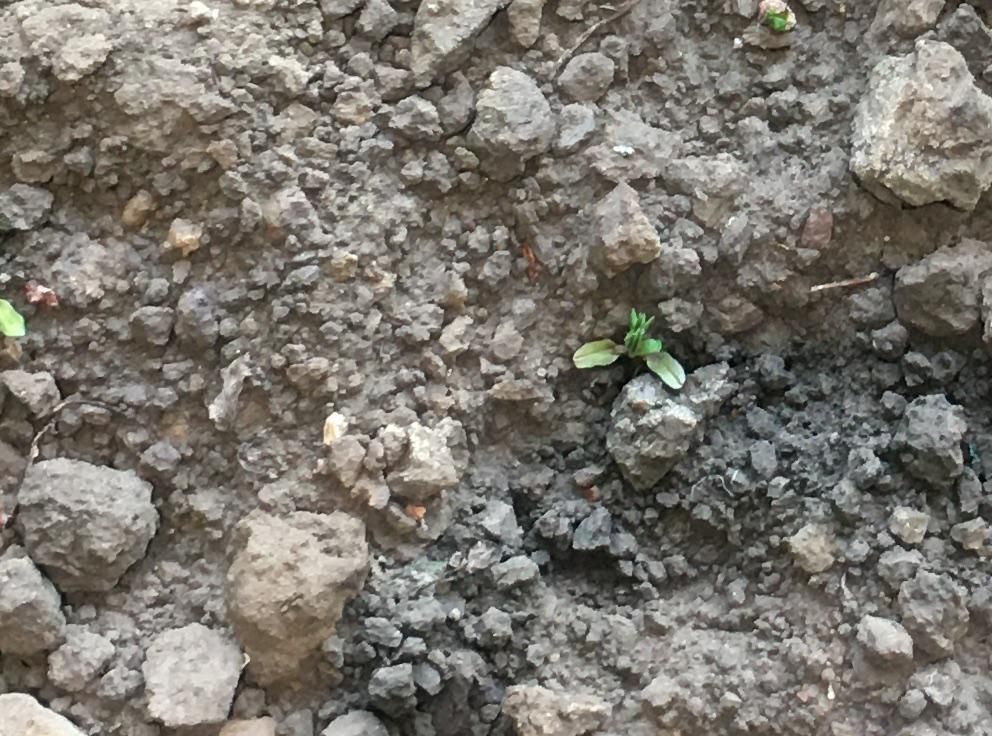block: (859, 40, 992, 213), (228, 510, 359, 676), (20, 463, 158, 594), (607, 373, 702, 485), (893, 240, 992, 334), (1, 547, 75, 660), (472, 64, 549, 170)
